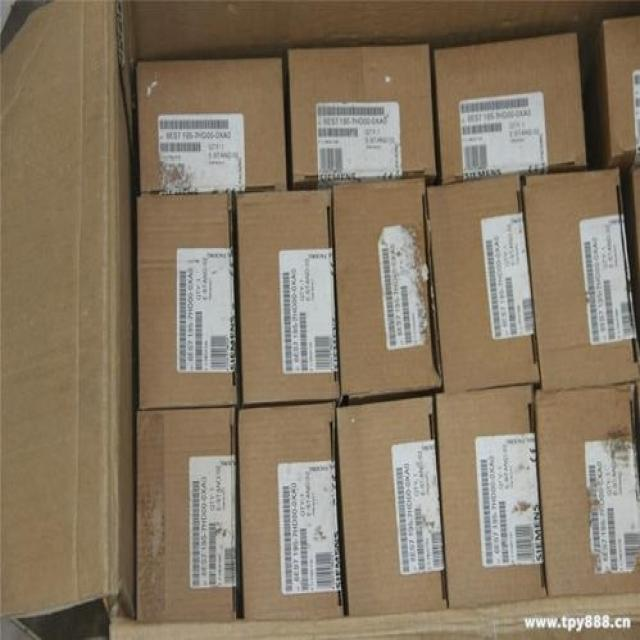box: (1, 3, 639, 639), (522, 168, 637, 389), (436, 383, 549, 607), (341, 392, 450, 619), (431, 174, 542, 394), (331, 176, 439, 399), (238, 400, 347, 620), (236, 188, 343, 406), (435, 34, 586, 183), (135, 407, 240, 621), (534, 383, 639, 595), (136, 194, 237, 408), (288, 44, 439, 187), (136, 55, 288, 193), (584, 13, 639, 167), (629, 167, 639, 283)
